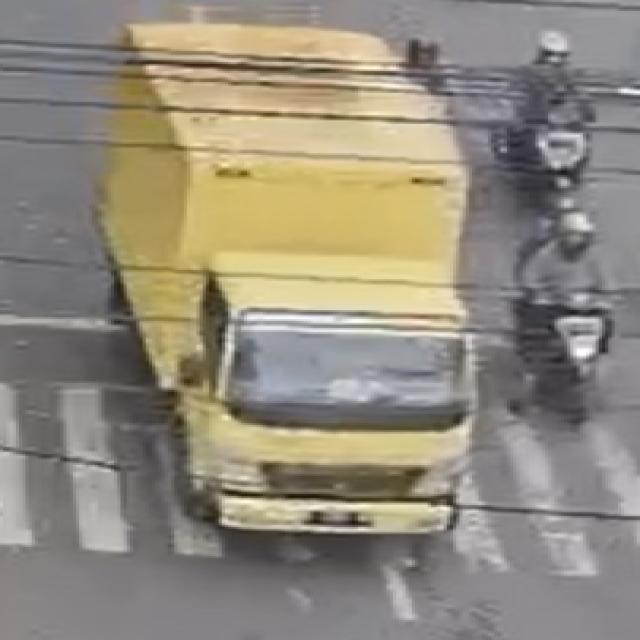truck: (103, 4, 509, 578)
